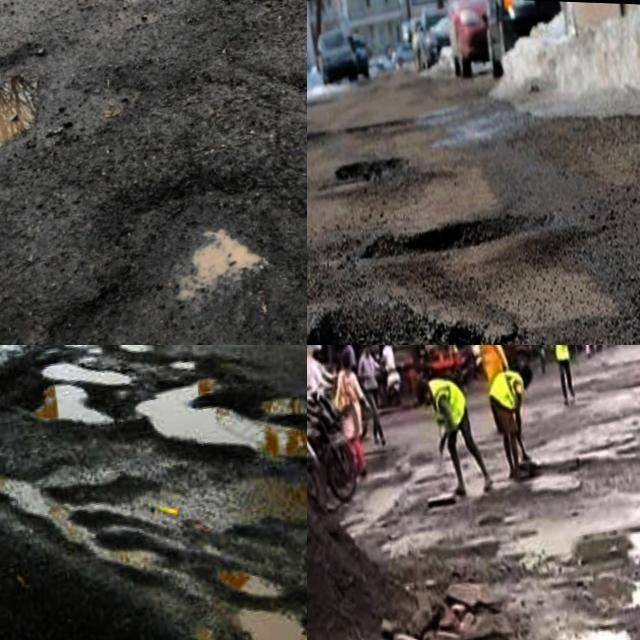Potholes: (54, 118, 307, 345), (86, 345, 307, 537), (0, 478, 211, 640), (0, 345, 205, 499), (352, 171, 549, 321), (307, 237, 543, 345), (377, 504, 550, 640), (544, 435, 640, 640), (185, 506, 307, 640), (0, 36, 70, 191), (317, 138, 427, 222), (341, 89, 434, 175), (592, 345, 640, 449)
